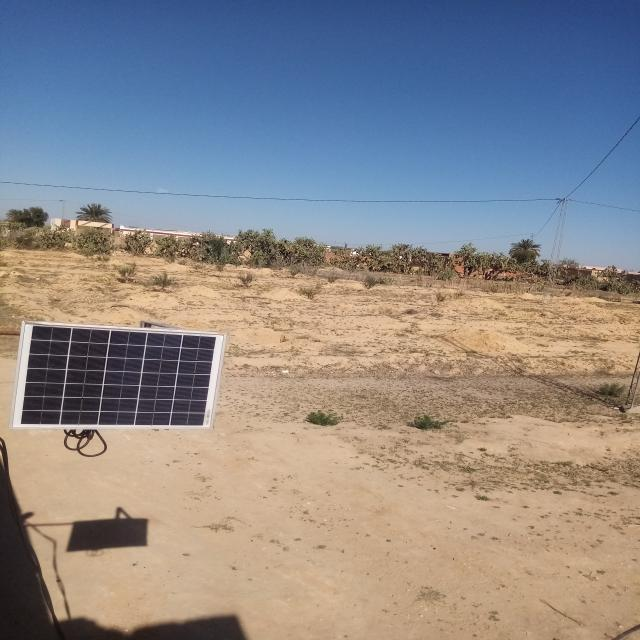no faulty: (9, 322, 226, 430)
